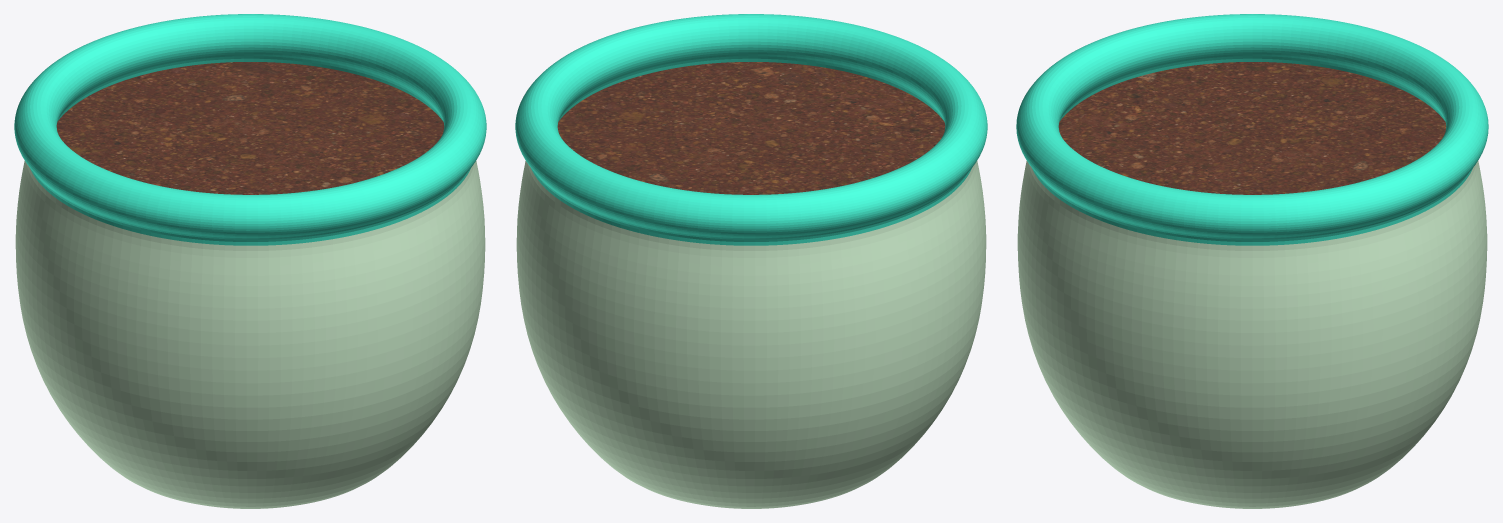
The model's file is small_pot.fbx.
3 views of the same model, side by side, from view 1: azimuth 30°, elevation 25°; view 2: azimuth 150°, elevation 25°; view 3: azimuth 270°, elevation 25° (orthographic).
Visible parts, largest first — view 1: SmallPot; view 2: SmallPot; view 3: SmallPot.
Part boxes in pixels (left/top/right/bottom): SmallPot: left=14, top=14, right=486, bottom=508; SmallPot: left=515, top=14, right=987, bottom=508; SmallPot: left=1016, top=14, right=1488, bottom=508.
Size of the model in its own units: 20.35 by 16.59 by 20.35.
1 material, 1 textured.
